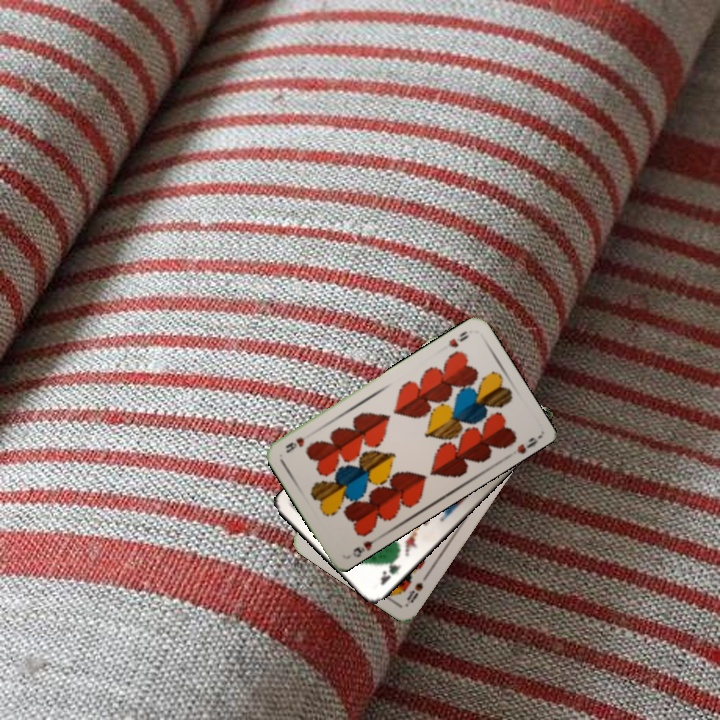GK: (376, 552, 404, 588)
H9: (348, 533, 380, 559), (444, 327, 472, 350)
S8: (403, 578, 426, 605)
